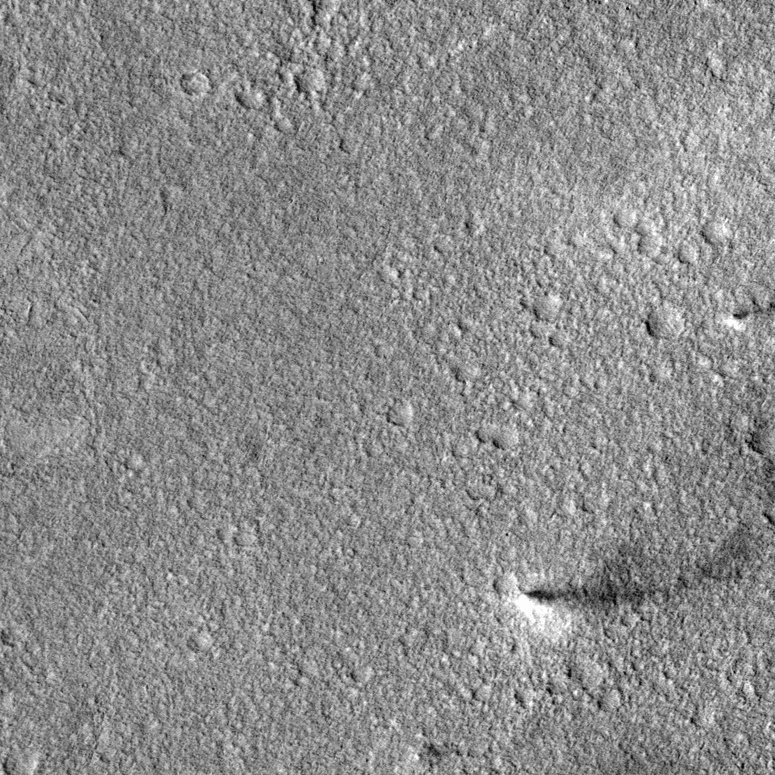dust_devil: (508, 524, 760, 644), (723, 303, 775, 333)
